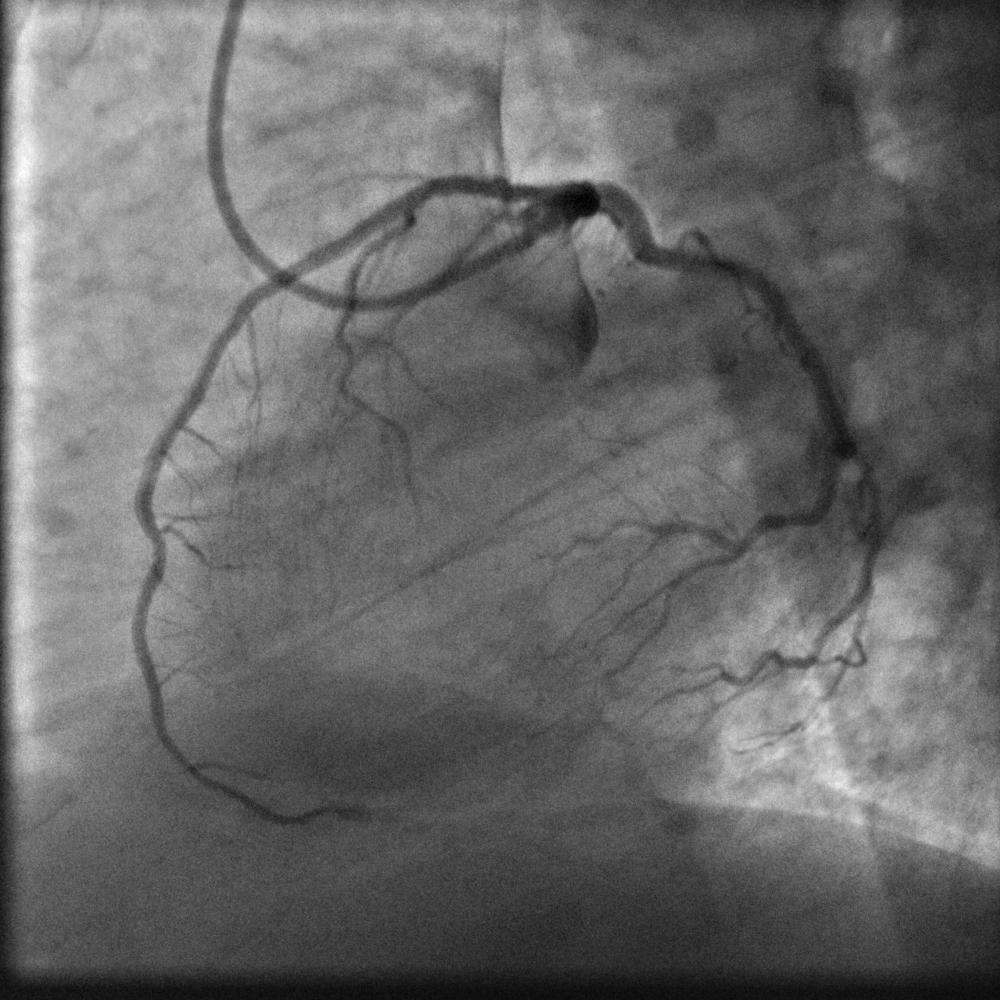Stenosis: (476, 173, 517, 196)
